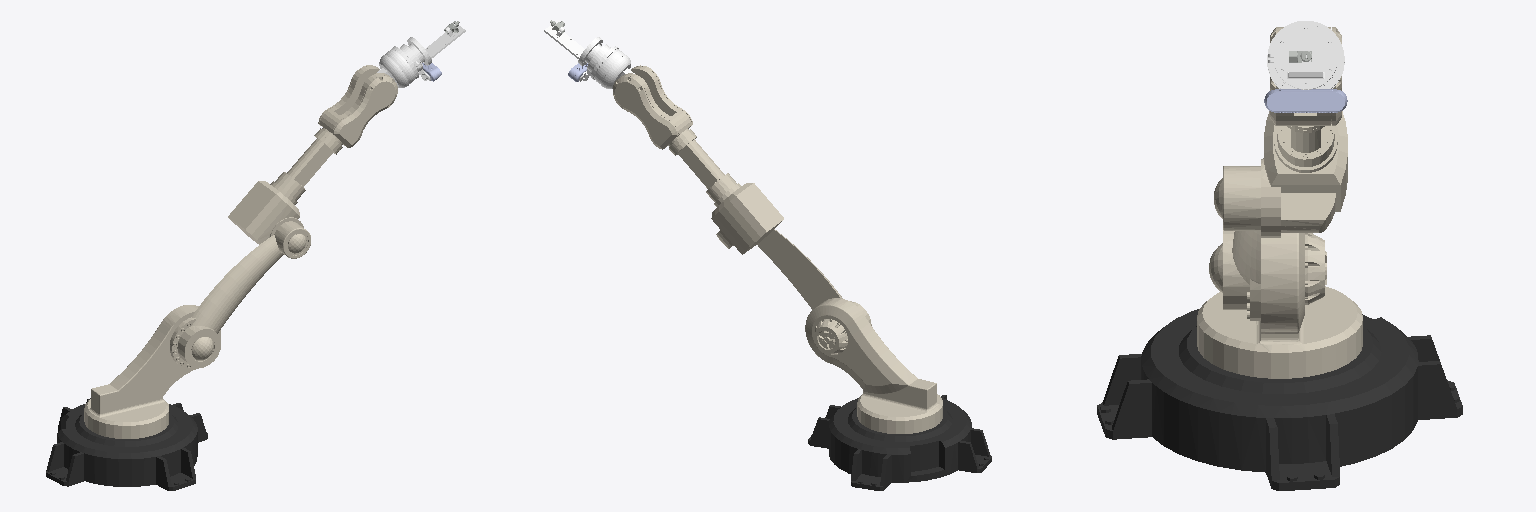
URDF robot description (only_robot_arm):
<?xml version="1.0" encoding="utf-8"?>
<!-- This URDF was automatically created by SolidWorks to URDF Exporter! Originally created by Stephen Brawner (brawner@gmail.com) 
     Commit Version: 1.6.0-4-g7f85cfe  Build Version: 1.6.7995.38578
     For more information, please see http://wiki.ros.org/sw_urdf_exporter -->
<robot
  name="only_robot_arm">
  <link
    name="base_link">
    <inertial>
      <origin
        xyz="0.0016227 -0.0011967 -0.045289"
        rpy="0 0 0" />
      <mass
        value="5.7724" />
      <inertia
        ixx="0.036735"
        ixy="-0.00076396"
        ixz="-4.697E-05"
        iyy="0.036262"
        iyz="3.4638E-05"
        izz="0.066642" />
    </inertial>
    <visual>
      <origin
        xyz="0 0 0"
        rpy="0 0 0" />
      <geometry>
        <mesh
          filename="package://only_robot_arm/meshes/base_link.STL" />
      </geometry>
      <material
        name="">
        <color
          rgba="0.25098 0.25098 0.25098 1" />
      </material>
    </visual>
    <collision>
      <origin
        xyz="0 0 0"
        rpy="0 0 0" />
      <geometry>
        <mesh
          filename="package://only_robot_arm/meshes/base_link.STL" />
      </geometry>
    </collision>
  </link>
  <link
    name="link_1">
    <inertial>
      <origin
        xyz="0.057065 0.002779 0.082921"
        rpy="0 0 0" />
      <mass
        value="2.3103" />
      <inertia
        ixx="0.011942"
        ixy="-0.00047591"
        ixz="-0.0090795"
        iyy="0.023782"
        iyz="-0.00041669"
        izz="0.016236" />
    </inertial>
    <visual>
      <origin
        xyz="0 0 0"
        rpy="0 0 0" />
      <geometry>
        <mesh
          filename="package://only_robot_arm/meshes/link_1.STL" />
      </geometry>
      <material
        name="">
        <color
          rgba="0.84314 0.81569 0.75294 1" />
      </material>
    </visual>
    <collision>
      <origin
        xyz="0 0 0"
        rpy="0 0 0" />
      <geometry>
        <mesh
          filename="package://only_robot_arm/meshes/link_1.STL" />
      </geometry>
    </collision>
  </link>
  <joint
    name="joint_1"
    type="revolute">
    <origin
      xyz="0 0 0"
      rpy="0 0 0" />
    <parent
      link="base_link" />
    <child
      link="link_1" />
    <axis
      xyz="0 0 -1" />
    <limit
      lower="-3.14"
      upper="3.14"
      effort="100"
      velocity="1" />
  </joint>
  <link
    name="link_2">
    <inertial>
      <origin
        xyz="0.11789 -0.0051972 -0.036262"
        rpy="0 0 0" />
      <mass
        value="0.84163" />
      <inertia
        ixx="0.0005405"
        ixy="0.00010257"
        ixz="-7.5611E-05"
        iyy="0.012735"
        iyz="2.2437E-05"
        izz="0.012982" />
    </inertial>
    <visual>
      <origin
        xyz="0 0 0"
        rpy="0 0 0" />
      <geometry>
        <mesh
          filename="package://only_robot_arm/meshes/link_2.STL" />
      </geometry>
      <material
        name="">
        <color
          rgba="0.84314 0.81569 0.75294 1" />
      </material>
    </visual>
    <collision>
      <origin
        xyz="0 0 0"
        rpy="0 0 0" />
      <geometry>
        <mesh
          filename="package://only_robot_arm/meshes/link_2.STL" />
      </geometry>
    </collision>
  </link>
  <joint
    name="joinit_2"
    type="revolute">
    <origin
      xyz="0.15 0 0.16"
      rpy="-1.5708 -0.69043 0" />
    <parent
      link="link_1" />
    <child
      link="link_2" />
    <axis
      xyz="0 0 -1" />
    <limit
      lower="-3.14"
      upper="3.14"
      effort="100"
      velocity="1" />
  </joint>
  <link
    name="link_3">
    <inertial>
      <origin
        xyz="0.042199 -0.030044 0.04616"
        rpy="0 0 0" />
      <mass
        value="1.2927" />
      <inertia
        ixx="0.0018572"
        ixy="-0.00069653"
        ixz="-0.00010735"
        iyy="0.0061686"
        iyz="0.00010265"
        izz="0.0066493" />
    </inertial>
    <visual>
      <origin
        xyz="0 0 0"
        rpy="0 0 0" />
      <geometry>
        <mesh
          filename="package://only_robot_arm/meshes/link_3.STL" />
      </geometry>
      <material
        name="">
        <color
          rgba="0.84314 0.81569 0.75294 1" />
      </material>
    </visual>
    <collision>
      <origin
        xyz="0 0 0"
        rpy="0 0 0" />
      <geometry>
        <mesh
          filename="package://only_robot_arm/meshes/link_3.STL" />
      </geometry>
    </collision>
  </link>
  <joint
    name="joint_3"
    type="revolute">
    <origin
      xyz="0.3 0 -0.02"
      rpy="0 0 -0.25411" />
    <parent
      link="link_2" />
    <child
      link="link_3" />
    <axis
      xyz="0 0 -1" />
    <limit
      lower="-3.14"
      upper="3.14"
      effort="100"
      velocity="1" />
  </joint>
  <link
    name="link_4">
    <inertial>
      <origin
        xyz="9.7821E-10 -3.4705E-09 0.099877"
        rpy="0 0 0" />
      <mass
        value="0.61716" />
      <inertia
        ixx="0.0021414"
        ixy="1.583E-11"
        ixz="5.6998E-12"
        iyy="0.0019766"
        iyz="-9.0627E-12"
        izz="0.00057314" />
    </inertial>
    <visual>
      <origin
        xyz="0 0 0"
        rpy="0 0 0" />
      <geometry>
        <mesh
          filename="package://only_robot_arm/meshes/link_4.STL" />
      </geometry>
      <material
        name="">
        <color
          rgba="0.84314 0.81569 0.75294 1" />
      </material>
    </visual>
    <collision>
      <origin
        xyz="0 0 0"
        rpy="0 0 0" />
      <geometry>
        <mesh
          filename="package://only_robot_arm/meshes/link_4.STL" />
      </geometry>
    </collision>
  </link>
  <joint
    name="joint_4"
    type="revolute">
    <origin
      xyz="0.20598 0 0.048"
      rpy="1.5708 0 1.791" />
    <parent
      link="link_3" />
    <child
      link="link_4" />
    <axis
      xyz="0 0 -1" />
    <limit
      lower="-3.14"
      upper="3.14"
      effort="100"
      velocity="1" />
  </joint>
  <link
    name="link_5">
    <inertial>
      <origin
        xyz="0.061622 0.00091656 -5.8517E-05"
        rpy="0 0 0" />
      <mass
        value="0.33387" />
      <inertia
        ixx="0.00024204"
        ixy="-8.3755E-07"
        ixz="-3.7282E-08"
        iyy="0.00033413"
        iyz="-3.6679E-07"
        izz="0.00034237" />
    </inertial>
    <visual>
      <origin
        xyz="0 0 0"
        rpy="0 0 0" />
      <geometry>
        <mesh
          filename="package://only_robot_arm/meshes/link_5.STL" />
      </geometry>
      <material
        name="">
        <color
          rgba="1 1 1 1" />
      </material>
    </visual>
    <collision>
      <origin
        xyz="0 0 0"
        rpy="0 0 0" />
      <geometry>
        <mesh
          filename="package://only_robot_arm/meshes/link_5.STL" />
      </geometry>
    </collision>
  </link>
  <joint
    name="joint_5"
    type="revolute">
    <origin
      xyz="0 0 0.158"
      rpy="-1.5708 -1.3404 0" />
    <parent
      link="link_4" />
    <child
      link="link_5" />
    <axis
      xyz="0 0 -1" />
    <limit
      lower="-3.14"
      upper="3.14"
      effort="100"
      velocity="1" />
  </joint>
  <link
    name="link_6">
    <inertial>
      <origin
        xyz="-0.0012192 0.00033381 0.041713"
        rpy="0 0 0" />
      <mass
        value="0.16487" />
      <inertia
        ixx="7.7001E-05"
        ixy="2.9257E-07"
        ixz="-8.7242E-06"
        iyy="7.6799E-05"
        iyz="-4.9468E-08"
        izz="6.0982E-05" />
    </inertial>
    <visual>
      <origin
        xyz="0 0 0"
        rpy="0 0 0" />
      <geometry>
        <mesh
          filename="package://only_robot_arm/meshes/link_6.STL" />
      </geometry>
      <material
        name="">
        <color
          rgba="1 1 1 1" />
      </material>
    </visual>
    <collision>
      <origin
        xyz="0 0 0"
        rpy="0 0 0" />
      <geometry>
        <mesh
          filename="package://only_robot_arm/meshes/link_6.STL" />
      </geometry>
    </collision>
  </link>
  <joint
    name="joint_6"
    type="revolute">
    <origin
      xyz="0.094 0 0"
      rpy="1.5708 0 1.5708" />
    <parent
      link="link_5" />
    <child
      link="link_6" />
    <axis
      xyz="0 0 1" />
    <limit
      lower="-3.14"
      upper="3.14"
      effort="100"
      velocity="1" />
  </joint>
  <link
    name="pollination_tip_link">
    <inertial>
      <origin
        xyz="1.0568E-08 -0.0026839 -0.015874"
        rpy="0 0 0" />
      <mass
        value="0.0033996" />
      <inertia
        ixx="3.5678E-07"
        ixy="2.8541E-13"
        ixz="-2.637E-13"
        iyy="2.7349E-07"
        iyz="-1.4224E-08"
        izz="1.908E-07" />
    </inertial>
    <visual>
      <origin
        xyz="0 0 0"
        rpy="0 0 0" />
      <geometry>
        <mesh
          filename="package://only_robot_arm/meshes/pollination_tip_link.STL" />
      </geometry>
      <material
        name="">
        <color
          rgba="0.75686 0.76863 0.75294 1" />
      </material>
    </visual>
    <collision>
      <origin
        xyz="0 0 0"
        rpy="0 0 0" />
      <geometry>
        <mesh
          filename="package://only_robot_arm/meshes/pollination_tip_link.STL" />
      </geometry>
    </collision>
  </link>
  <joint
    name="pollination_tip_joint"
    type="fixed">
    <origin
      xyz="0.0045 0.0005 0.13743"
      rpy="0 0 0" />
    <parent
      link="link_6" />
    <child
      link="pollination_tip_link" />
    <axis
      xyz="0 0 0" />
  </joint>
  <link
    name="pollination_tip_tcp" />
  <joint
    name="pollination_tip_tcp_joint"
    type="fixed">
    <origin
      xyz="0 0 -0.033433"
      rpy="0 0 0" />
    <parent
      link="pollination_tip_link" />
    <child
      link="pollination_tip_tcp" />
    <axis
      xyz="0 0 0" />
  </joint>
  <link
    name="camera_link">
    <inertial>
      <origin
        xyz="0.032253 6.0339E-05 -0.010048"
        rpy="0 0 0" />
      <mass
        value="0.044752" />
      <inertia
        ixx="3.9447E-06"
        ixy="-2.7756E-09"
        ixz="-2.4435E-07"
        iyy="2.7362E-05"
        iyz="1.1647E-09"
        izz="2.7277E-05" />
    </inertial>
    <visual>
      <origin
        xyz="0 0 0"
        rpy="0 0 0" />
      <geometry>
        <mesh
          filename="package://only_robot_arm/meshes/camera_link.STL" />
      </geometry>
      <material
        name="">
        <color
          rgba="0.79216 0.81961 0.93333 1" />
      </material>
    </visual>
    <collision>
      <origin
        xyz="0 0 0"
        rpy="0 0 0" />
      <geometry>
        <mesh
          filename="package://only_robot_arm/meshes/camera_link.STL" />
      </geometry>
    </collision>
  </link>
  <joint
    name="camera_joint"
    type="fixed">
    <origin
      xyz="0.131 0.0485 -0.0325"
      rpy="-2.1948 -1.5708 -0.82885" />
    <parent
      link="link_5" />
    <child
      link="camera_link" />
    <axis
      xyz="0 0 0" />
  </joint>
  <ros2_control name="OnlyRobotArmSystem" type="system">
    <hardware>
      <plugin>mock_components/GenericSystem</plugin>
    </hardware>
    <joint name="joint_1">
      <command_interface name="position" />
      <state_interface name="position">
        <param name="initial_value">0.0</param>
      </state_interface>
      <state_interface name="velocity" />
    </joint>
    <joint name="joinit_2">
      <command_interface name="position" />
      <state_interface name="position">
        <param name="initial_value">2.087</param>
      </state_interface>
      <state_interface name="velocity" />
    </joint>
    <joint name="joint_3">
      <command_interface name="position" />
      <state_interface name="position">
        <param name="initial_value">-2.495</param>
      </state_interface>
      <state_interface name="velocity" />
    </joint>
    <joint name="joint_4">
      <command_interface name="position" />
      <state_interface name="position">
        <param name="initial_value">0.085</param>
      </state_interface>
      <state_interface name="velocity" />
    </joint>
    <joint name="joint_5">
      <command_interface name="position" />
      <state_interface name="position">
        <param name="initial_value">0.458</param>
      </state_interface>
      <state_interface name="velocity" />
    </joint>
    <joint name="joint_6">
      <command_interface name="position" />
      <state_interface name="position">
        <param name="initial_value">0.017</param>
      </state_interface>
      <state_interface name="velocity" />
    </joint>
  </ros2_control>
</robot>

--- What the picture shows (computed from the rendered views, not written in the file) ---
3 views of the same robot in one strip: view 1: azimuth 30°, elevation 25°; view 2: azimuth 150°, elevation 25°; view 3: azimuth 270°, elevation 25° (orthographic).
Model only_robot_arm with 10 links and 9 joints (6 revolute, 3 fixed), rooted at base_link, posed all joints at 0.
Visible links, largest first — view 1: base_link, link_1, link_2, link_3, link_4, link_5, link_6; view 2: base_link, link_1, link_3, link_4, link_2, link_5, link_6; view 3: base_link, link_1, link_3, link_2, link_6, camera_link, link_5, link_4.
Link boxes in pixels (left/top/right/bottom): base_link: left=46, top=398, right=207, bottom=490; link_1: left=84, top=305, right=220, bottom=438; link_2: left=170, top=221, right=310, bottom=368; link_3: left=228, top=128, right=342, bottom=244; link_4: left=318, top=65, right=397, bottom=147; link_5: left=377, top=44, right=430, bottom=87; link_6: left=407, top=23, right=465, bottom=65; base_link: left=808, top=395, right=991, bottom=490; link_1: left=805, top=298, right=942, bottom=433; link_3: left=669, top=129, right=783, bottom=254; link_4: left=613, top=65, right=692, bottom=149; link_2: left=757, top=229, right=871, bottom=325; link_5: left=579, top=44, right=634, bottom=88; link_6: left=544, top=23, right=602, bottom=65; base_link: left=1097, top=309, right=1462, bottom=490; link_1: left=1197, top=233, right=1362, bottom=378; link_3: left=1261, top=111, right=1347, bottom=237; link_2: left=1209, top=166, right=1260, bottom=320; link_6: left=1274, top=25, right=1337, bottom=89; camera_link: left=1264, top=89, right=1347, bottom=112; link_5: left=1267, top=21, right=1344, bottom=88; link_4: left=1270, top=27, right=1341, bottom=125.
Size in the robot's own frame: 1.03 by 0.3952 by 0.8163 metres.
Meshes: 9 distinct files referenced, 9 mesh visuals loaded (9 binary STL).
